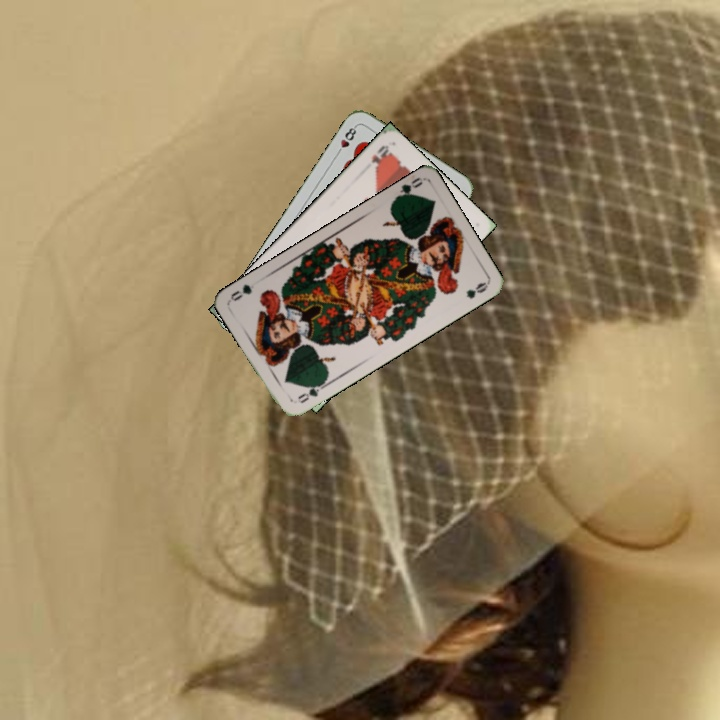GO: (389, 173, 425, 206), (294, 379, 329, 406)
H8: (332, 122, 359, 158)
HO: (367, 141, 392, 171)
